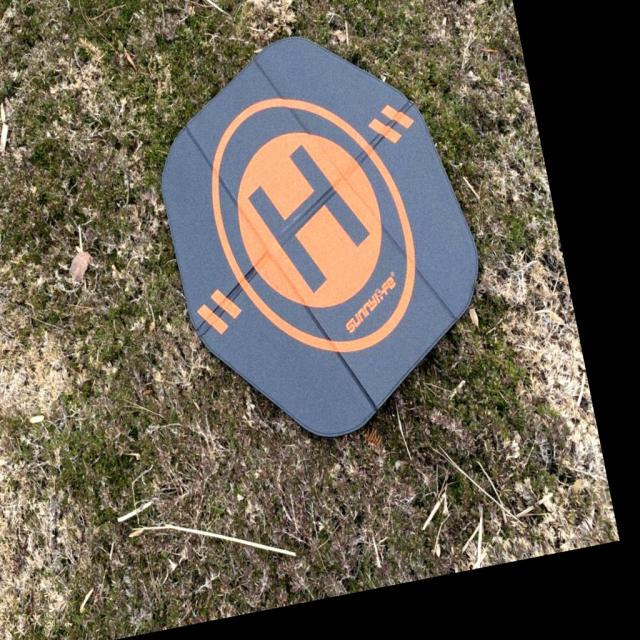helipad: (206, 92, 419, 356)
